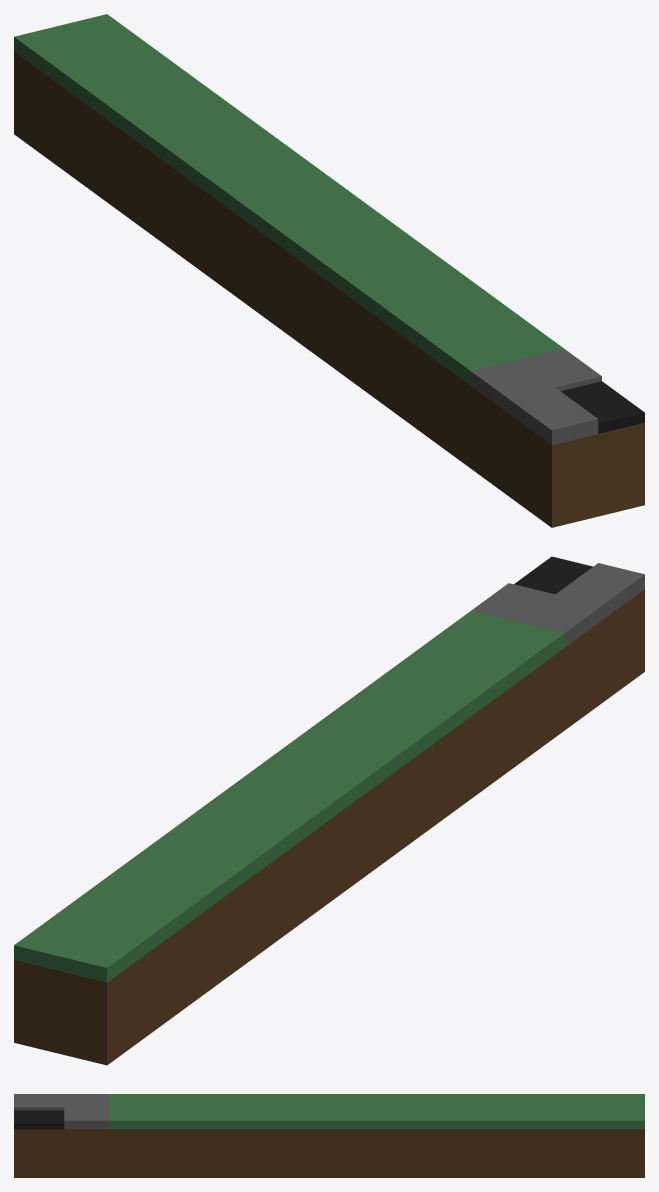
File: Layout_A.fbx
3 views of the same model, one above another, from view 1: azimuth 30°, elevation 25°; view 2: azimuth 150°, elevation 25°; view 3: azimuth 270°, elevation 25° (orthographic). The views are drawn at different scales.
Visible parts, largest first — view 1: Cube.011; view 2: Cube.011; view 3: Cube.011.
Part boxes in pixels (bbox=[...]): Cube.011: bbox=[14, 14, 644, 527]; Cube.011: bbox=[14, 556, 644, 1065]; Cube.011: bbox=[14, 1094, 644, 1177].
Bounding box in the file's own units: 200 × 200 × 2000.
